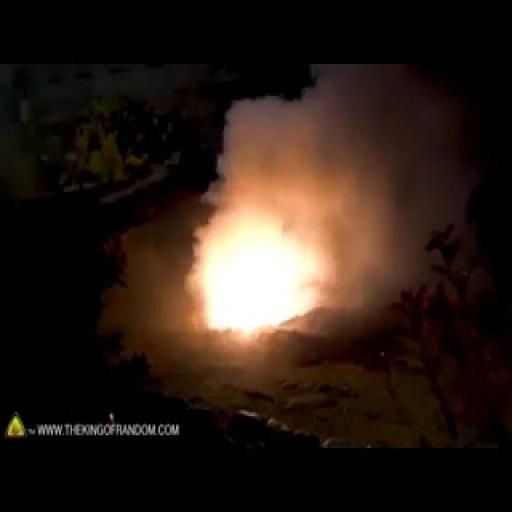smoke: (178, 198, 316, 333)
